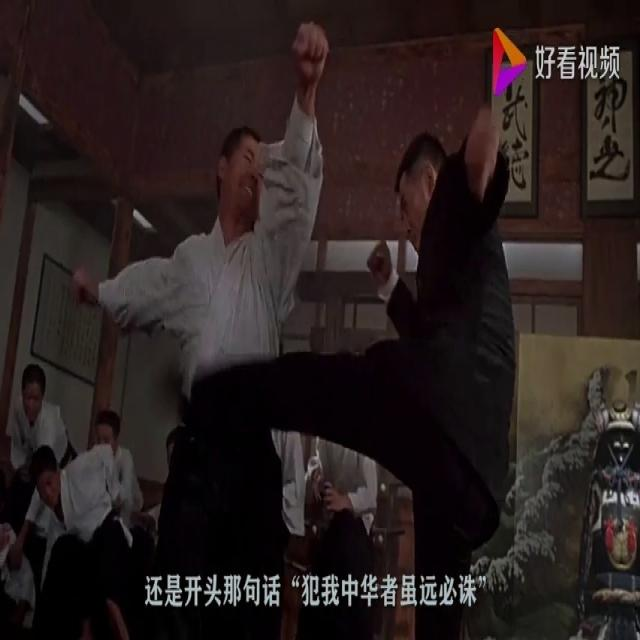fight: (65, 3, 563, 637)
